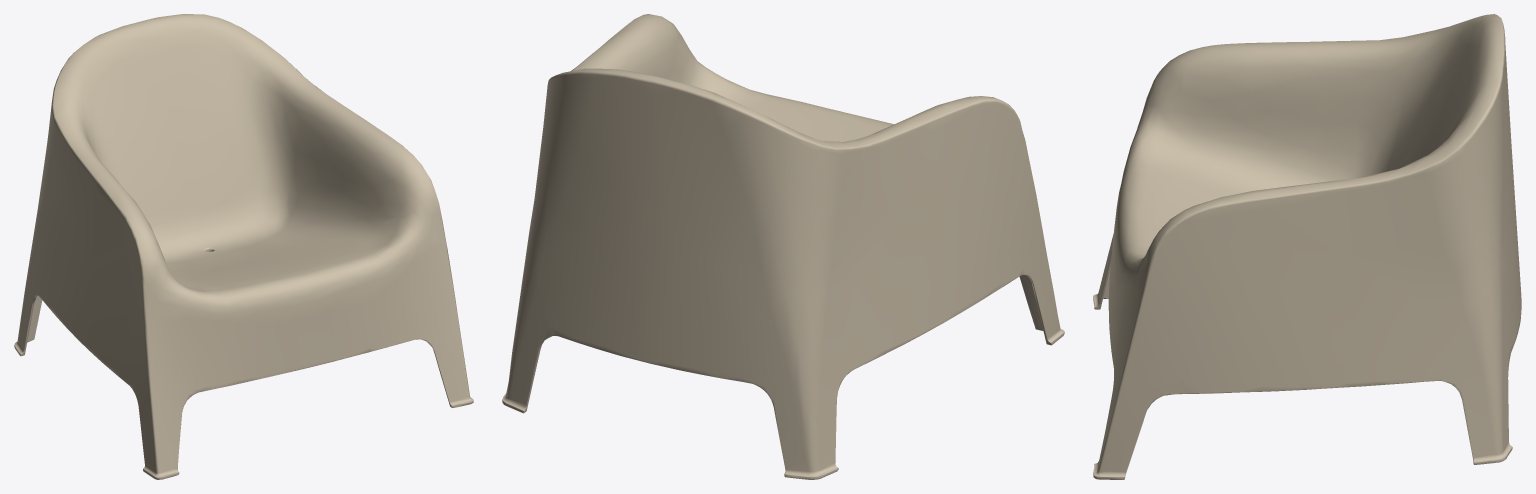
Rendered from skarpo_fotel_ogrodowy_50575811.glb.
The picture shows the model from 3 angles, left to right: view 1: azimuth 30°, elevation 25°; view 2: azimuth 150°, elevation 25°; view 3: azimuth 270°, elevation 25°; orthographic projection. The views are drawn at different scales.
Parts seen in each view (by area): view 1: skarpo_fotel_ogrodowy_50575811; view 2: skarpo_fotel_ogrodowy_50575811; view 3: skarpo_fotel_ogrodowy_50575811.
Part boxes in pixels (box(x1,y1,x2,y2)): skarpo_fotel_ogrodowy_50575811: box(14, 14, 473, 479); skarpo_fotel_ogrodowy_50575811: box(502, 14, 1064, 479); skarpo_fotel_ogrodowy_50575811: box(1093, 14, 1521, 479).
Size of the model in its own units: 0.8015 by 0.7058 by 0.7889.
Materials: 1 (1 with a texture image).
